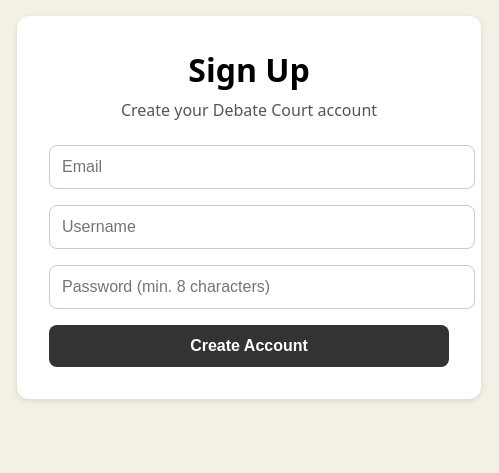
it: Page tests › SignupPage blocks short password
Type "test@example.com" into the field with placeholder "Email" at (262, 167), box [49,145,475,189]
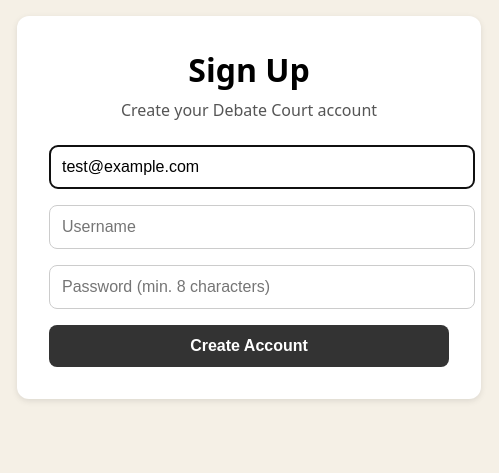
Type "tony" into the field with placeholder "Username" at (262, 227), box [49,205,475,249]
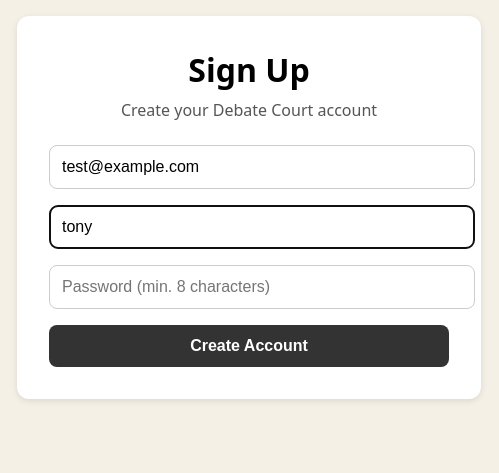
Type "short" into the password field with placeholder "Password (min. 8 characters)" at (262, 287), box [49,265,475,309]
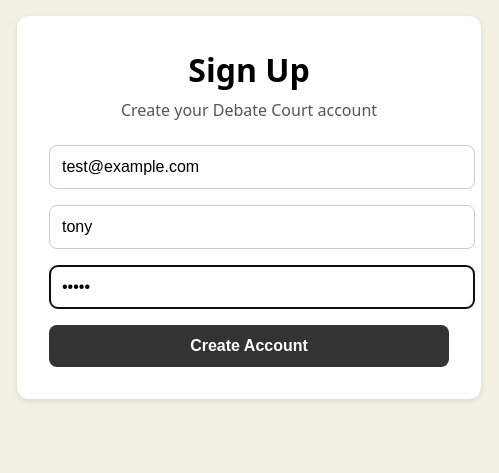
Click the button "Create Account" at (249, 346), box [49,325,449,367]
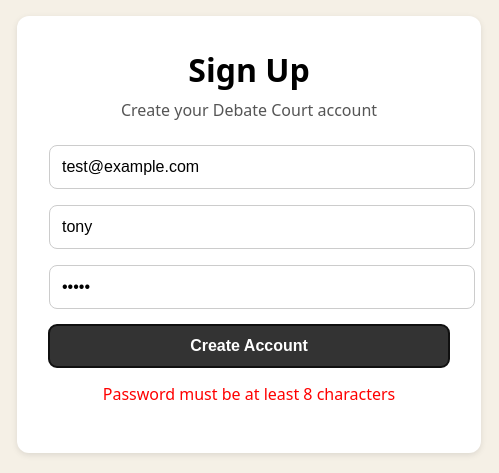
Now the text "Password must be at least 8 characters" is shown, box [103,383,395,405]
